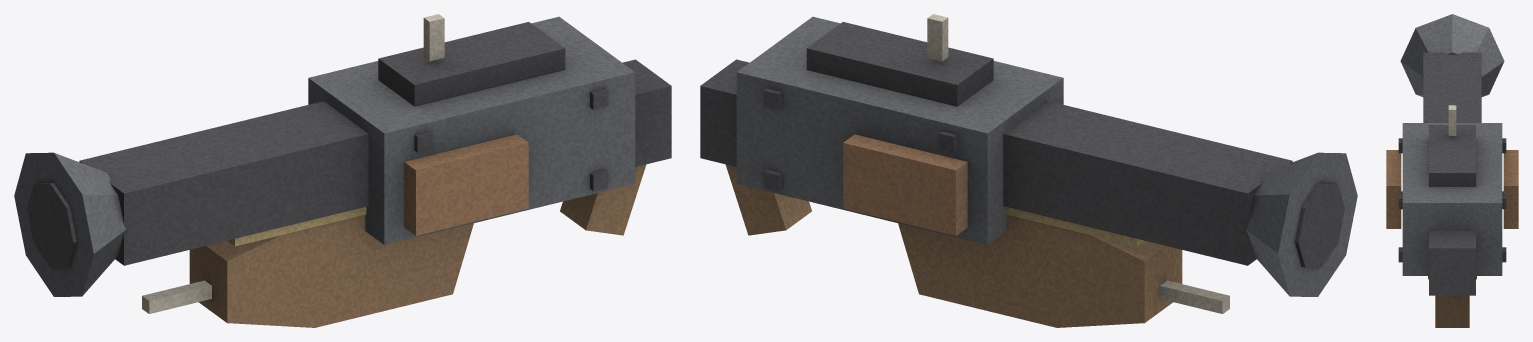
The model's file is Nailer.fbx.
3 views of the same model, side by side, from view 1: azimuth 30°, elevation 25°; view 2: azimuth 150°, elevation 25°; view 3: azimuth 270°, elevation 25° (orthographic). The views are drawn at different scales.
Parts seen in each view (by area): view 1: Nailer; view 2: Nailer; view 3: Nailer.
Part boxes in pixels (<box>): Nailer: <box>14,14,671,327</box>; Nailer: <box>700,14,1357,327</box>; Nailer: <box>1386,14,1518,327</box>.
Bounding box in the file's own units: 4.81 × 2 × 1.4.
Materials: 1 (1 with a texture image).
